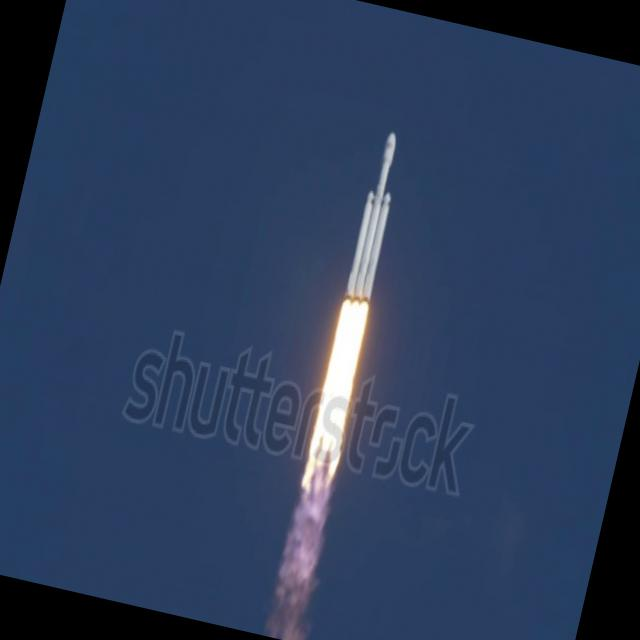rocket: (297, 123, 416, 465)
